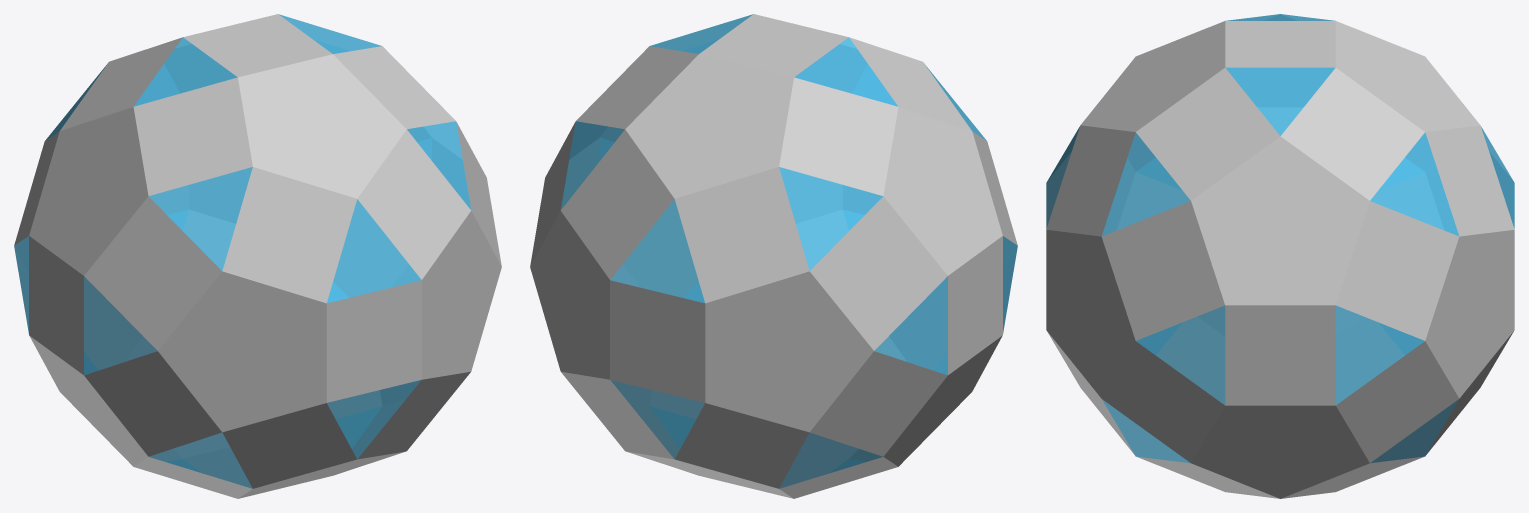
File: Rhombicosidodecahedron.obj
3 views of the same model, side by side, from view 1: azimuth 30°, elevation 25°; view 2: azimuth 150°, elevation 25°; view 3: azimuth 270°, elevation 25° (orthographic).
Bounding box in the file's own units: 4.24 × 4.24 × 4.24.
